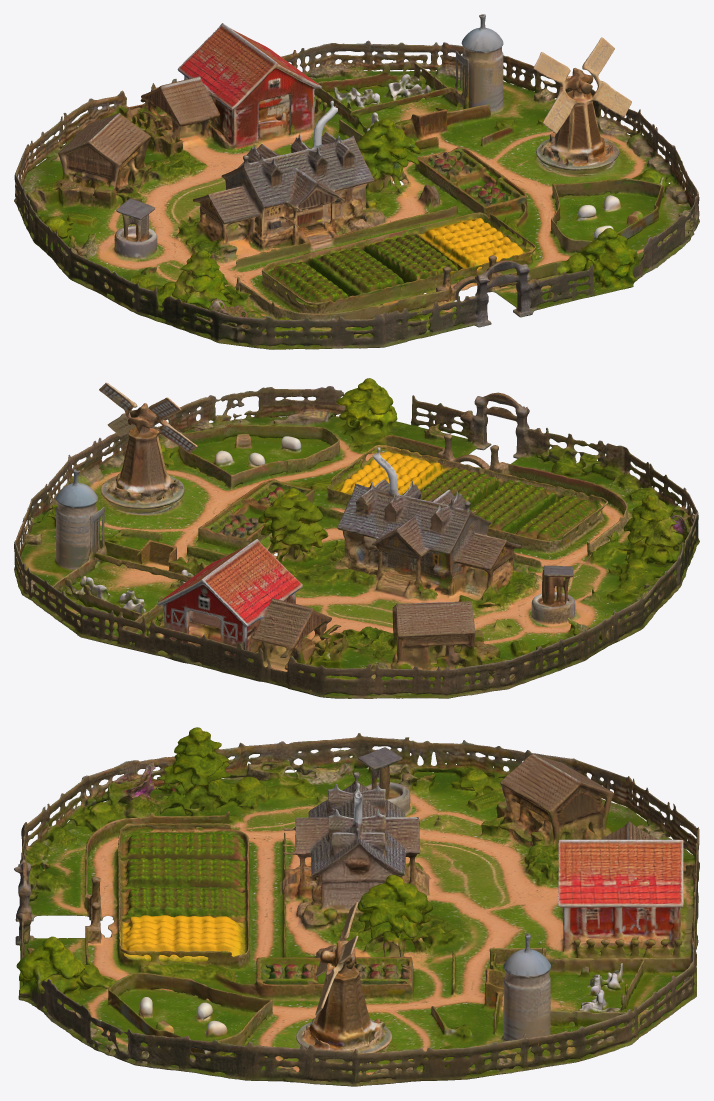
File: golden_acres.glb
3 views of the same model, one above another, from view 1: azimuth 30°, elevation 25°; view 2: azimuth 150°, elevation 25°; view 3: azimuth 270°, elevation 25° (orthographic). The views are drawn at different scales.
Size of the model in its own units: 1.9 by 0.3718 by 1.73.
1 material, 1 textured.
